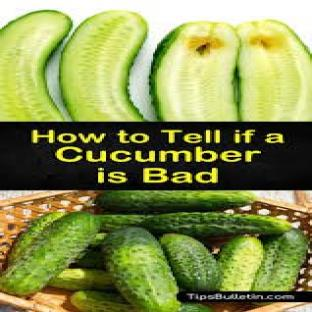Cucumber: (61, 11, 147, 121), (152, 22, 239, 121), (0, 212, 100, 295), (0, 11, 70, 121), (238, 21, 311, 121), (104, 228, 180, 311), (142, 212, 292, 236), (252, 229, 308, 291), (97, 191, 257, 212), (161, 234, 219, 291), (8, 212, 64, 265), (218, 238, 262, 291), (71, 291, 138, 311), (50, 269, 113, 290), (99, 214, 151, 232), (75, 251, 103, 268), (91, 233, 107, 248), (179, 304, 213, 311)
